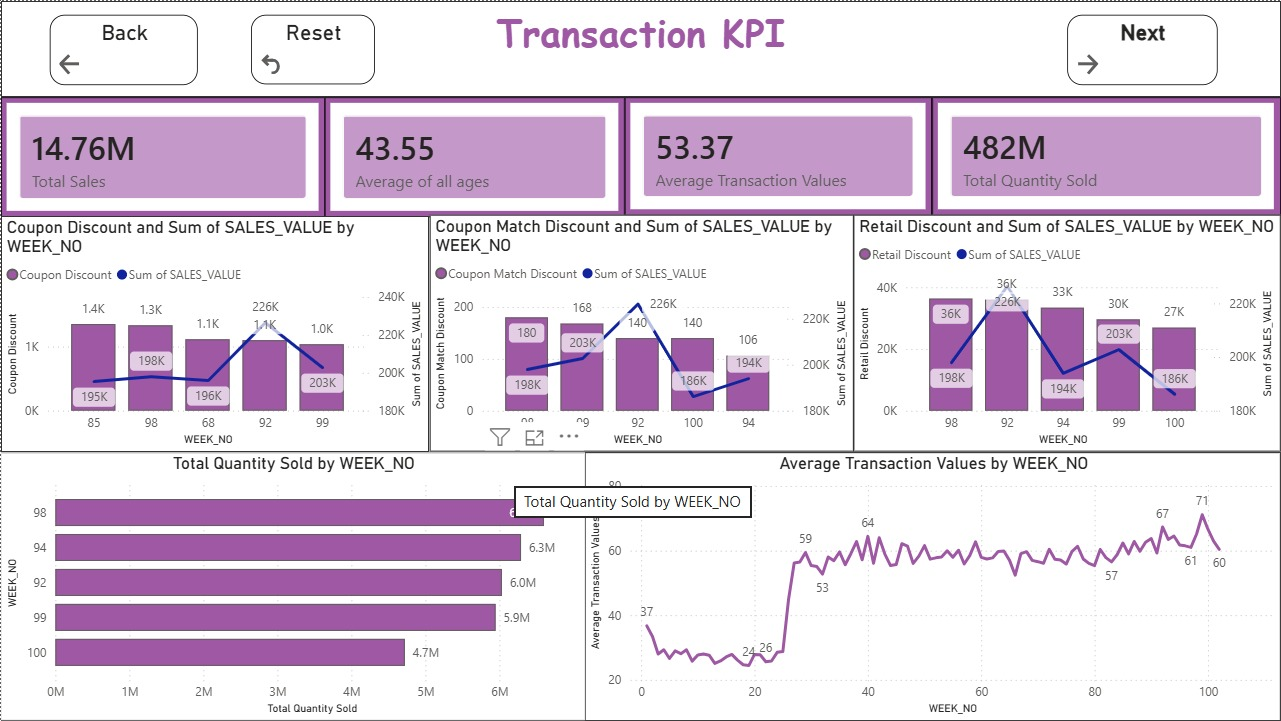

What the dashboard file says about the page in this screenshot:
{"tool":"powerbi","page":{"name":"Transaction KPI","canvas":[1280,720],"ordinal":4},"visuals":[{"type":"cardVisual","fields":{"Data":["KPI.Total Sales"]},"box":[0,95.7,324.3,120],"z":0},{"type":"cardVisual","fields":{"Data":["KPI.Average of all ages"]},"box":[324.3,95.7,300,120],"z":1000},{"type":"cardVisual","fields":{"Data":["Transaction.Average Transaction Values"]},"box":[624.3,95.7,307.1,118.6],"z":2000},{"type":"cardVisual","fields":{"Data":["Transaction.Total Quantity Sold"]},"box":[931.4,95.7,348.6,118.6],"z":3000},{"type":"lineStackedColumnComboChart","fields":{"Category":["Transaction.WEEK_NO"],"Y":["Transaction.Coupon Discount"],"Y2":["Sum(Transaction.SALES_VALUE)"]},"box":[0,214.9,428.4,235.8],"z":4000},{"type":"lineStackedColumnComboChart","fields":{"Category":["Transaction.WEEK_NO"],"Y":["Transaction.Retail Discount"],"Y2":["Sum(Transaction.SALES_VALUE)"]},"box":[852.9,214.3,427.1,237.1],"z":5000},{"type":"lineStackedColumnComboChart","fields":{"Category":["Transaction.WEEK_NO"],"Y":["Transaction.Coupon Match Discount"],"Y2":["Sum(Transaction.SALES_VALUE)"]},"box":[428.6,214.3,424.3,237.1],"z":6000},{"type":"lineChart","fields":{"Category":["Transaction.WEEK_NO"],"Y":["Transaction.Average Transaction Values"]},"box":[583.8,451.2,696.2,268.8],"z":7000},{"type":"barChart","fields":{"Category":["Transaction.WEEK_NO"],"Y":["Transaction.Total Quantity Sold"]},"box":[0,451.2,583.8,268.8],"z":8000},{"type":"textbox","box":[0,0,1280,95.7],"z":9000},{"type":"actionButton","title":"Next","box":[1066.7,13.3,150,70],"z":10000},{"type":"actionButton","title":"Back","box":[48.3,13.3,148.3,70],"z":11000},{"type":"actionButton","title":"Reset","box":[250.4,13.9,123.8,69.6],"z":11001}]}

Visuals, with their boxes in screenshot pixels (x1, y1, x2, y2), scaled from the page's 1280x720 canvas onto the 1281x721 screenshot:
cardVisual - KPI.Total Sales: bbox=(0, 96, 325, 216)
cardVisual - KPI.Average of all ages: bbox=(325, 96, 625, 216)
cardVisual - Transaction.Average Transaction Values: bbox=(625, 96, 932, 215)
cardVisual - Transaction.Total Quantity Sold: bbox=(932, 96, 1280, 215)
lineStackedColumnComboChart - Transaction.WEEK_NO x Transaction.Coupon Discount: bbox=(0, 215, 429, 451)
lineStackedColumnComboChart - Transaction.WEEK_NO x Transaction.Retail Discount: bbox=(854, 215, 1280, 452)
lineStackedColumnComboChart - Transaction.WEEK_NO x Transaction.Coupon Match Discount: bbox=(429, 215, 854, 452)
lineChart - Transaction.WEEK_NO x Transaction.Average Transaction Values: bbox=(584, 452, 1280, 720)
barChart - Transaction.WEEK_NO x Transaction.Total Quantity Sold: bbox=(0, 452, 584, 720)
textbox: bbox=(0, 0, 1280, 96)
"Next" actionButton: bbox=(1068, 13, 1218, 83)
"Back" actionButton: bbox=(48, 13, 197, 83)
"Reset" actionButton: bbox=(251, 14, 374, 84)
